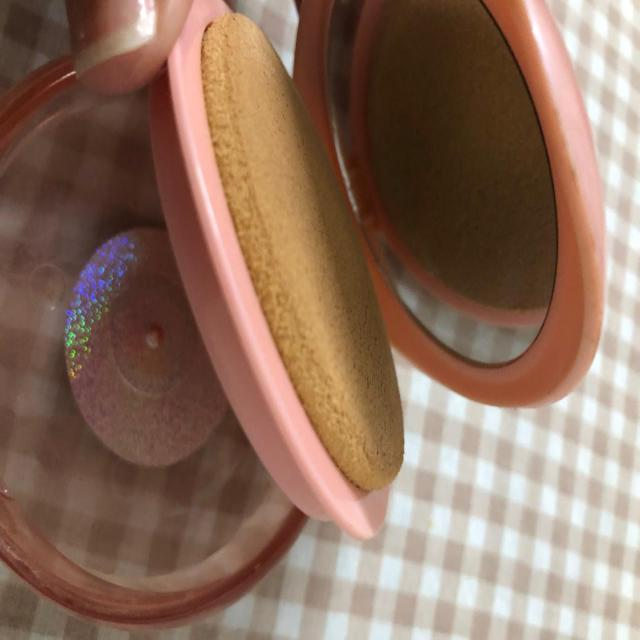beauty blender: (200, 5, 414, 502)
